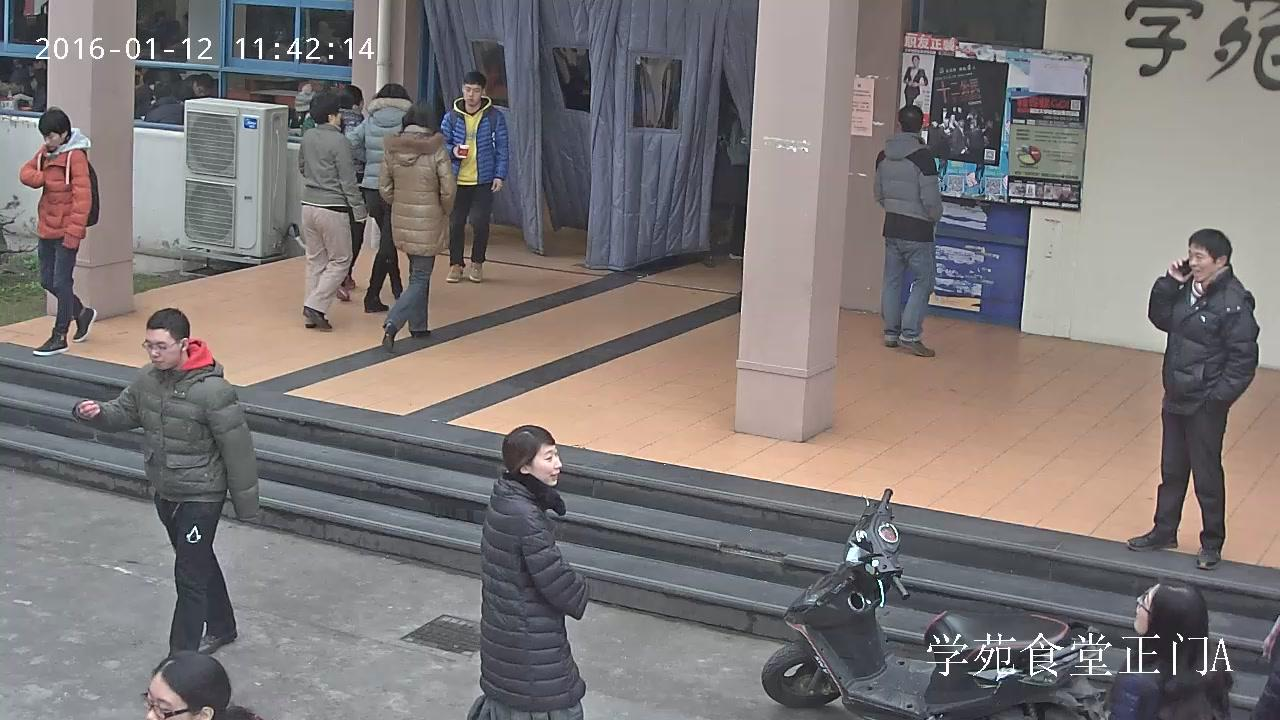person: (71, 307, 259, 674), (1128, 227, 1259, 569), (467, 424, 589, 720), (19, 106, 99, 357), (379, 100, 457, 350), (873, 104, 942, 357), (1110, 578, 1232, 720), (344, 82, 416, 313), (298, 93, 368, 330), (440, 71, 508, 283), (702, 90, 750, 267), (334, 85, 368, 302), (145, 81, 184, 125), (903, 54, 927, 107)
